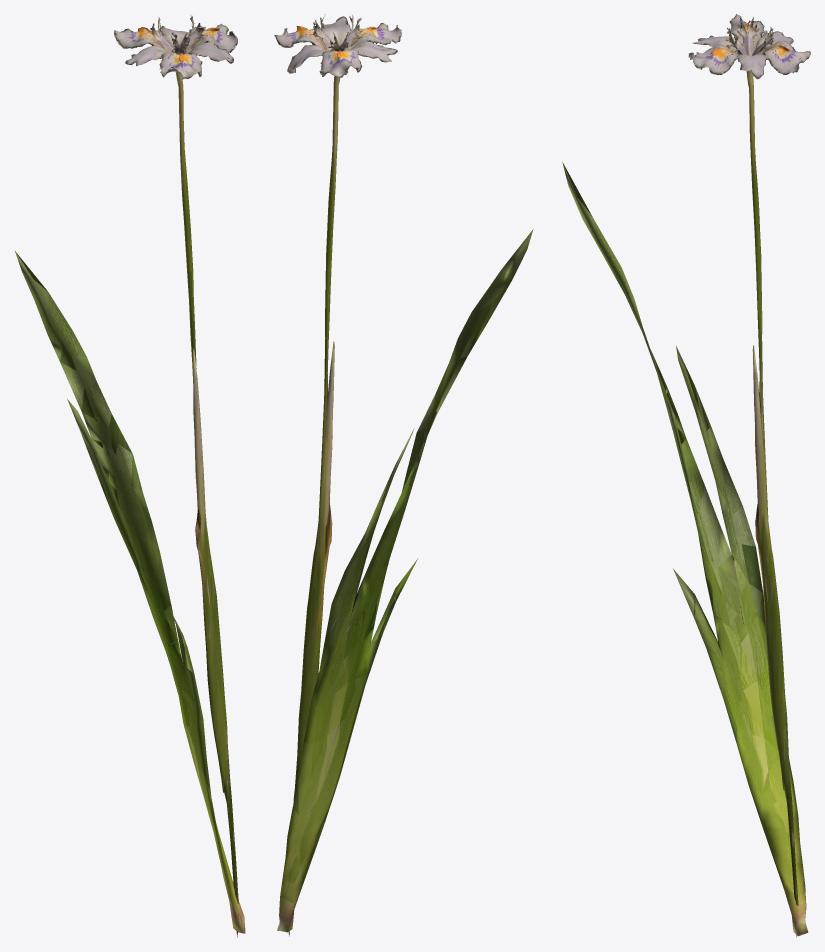
Rendered from iris_japonica_lod0.glb.
3 renders of one model, left to right at view 1: azimuth 30°, elevation 25°; view 2: azimuth 150°, elevation 25°; view 3: azimuth 330°, elevation 25°, orthographic. The views are drawn at different scales.
Parts seen in each view (by area): view 1: LeafFan, FlowerStem; view 2: LeafFan, FlowerStem; view 3: LeafFan, FlowerStem.
Part boxes in pixels (<box>): LeafFan: <box>14,250,245,933</box>; FlowerStem: <box>114,15,238,937</box>; LeafFan: <box>277,229,533,932</box>; FlowerStem: <box>274,14,401,936</box>; LeafFan: <box>562,162,808,936</box>; FlowerStem: <box>688,14,810,937</box>.
Bounding box in the file's own units: 0.1203 × 0.4392 × 0.0562.
Materials: 2 (2 with a texture image).
